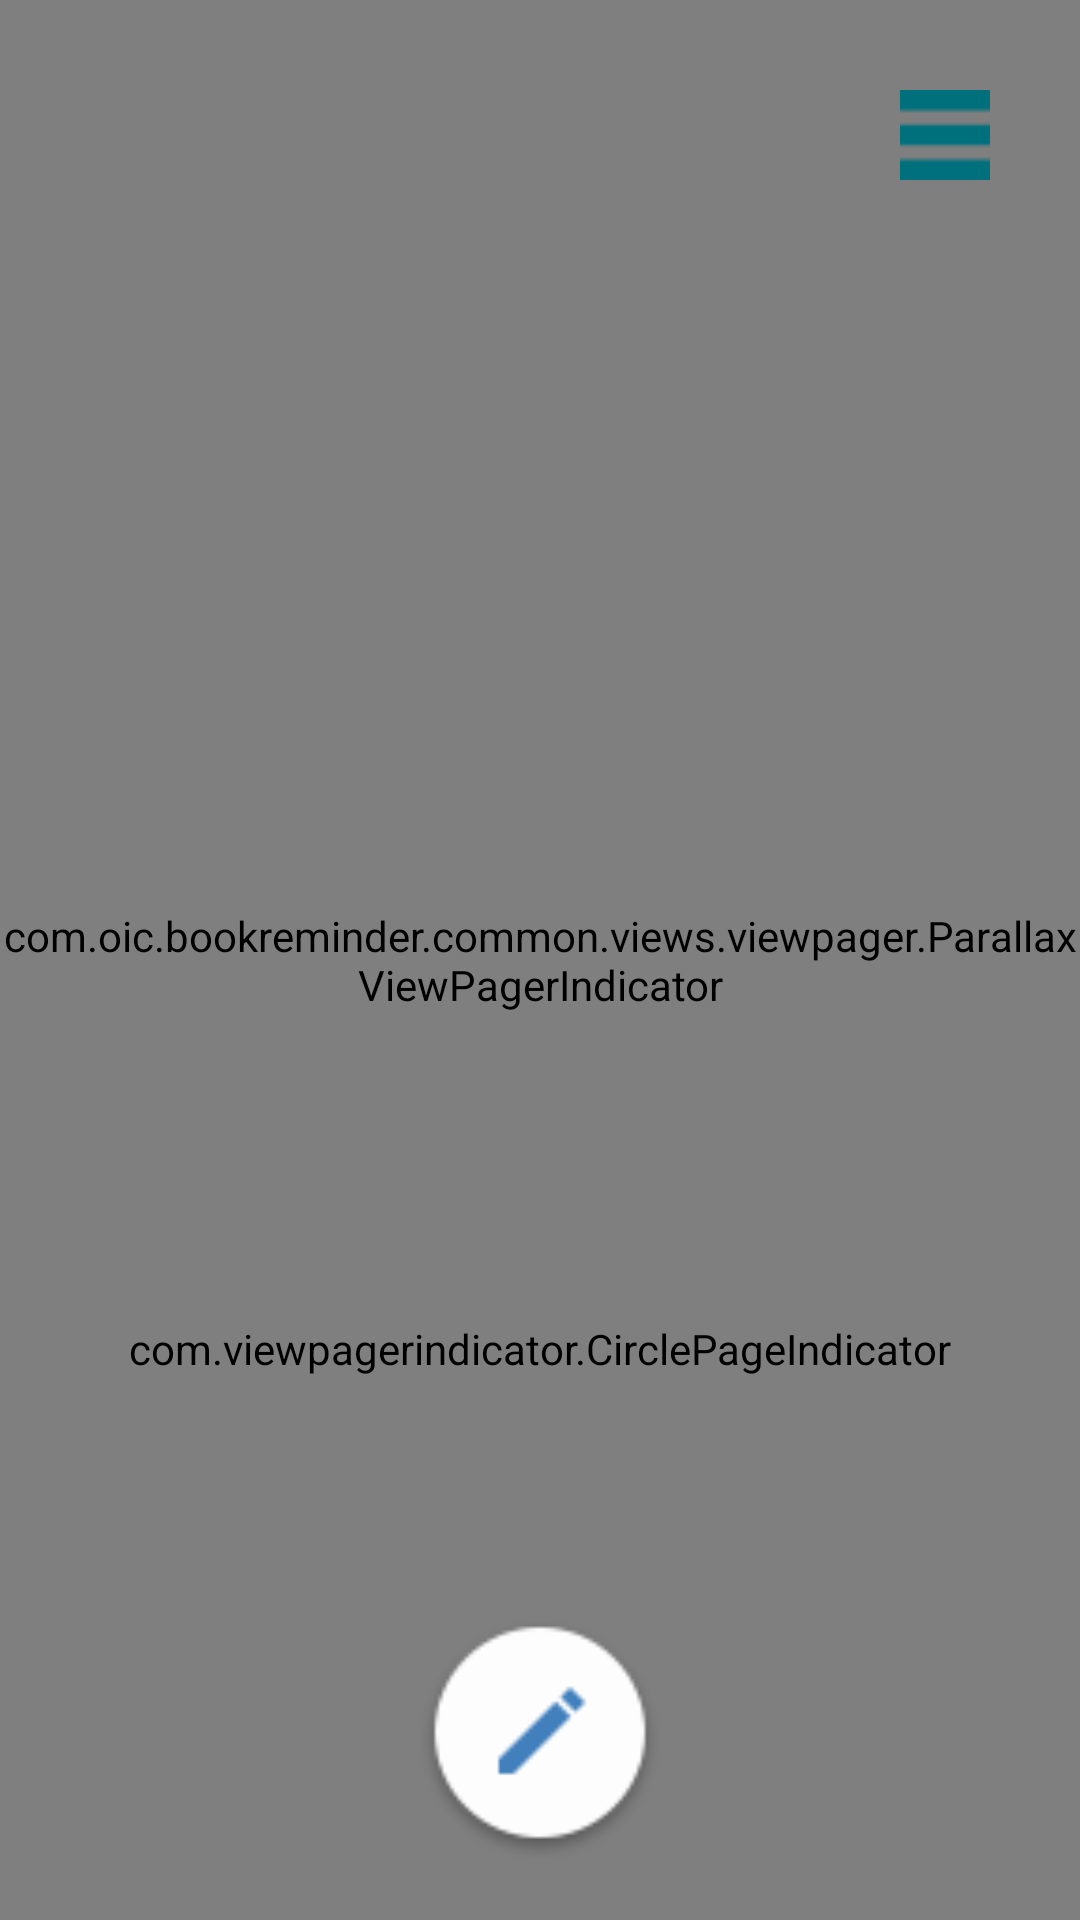

Screen size 1080px x 1920px. Icon name, then its center in pixels as point (x, y):
edit: point (540, 1735)
menu: point (945, 135)
